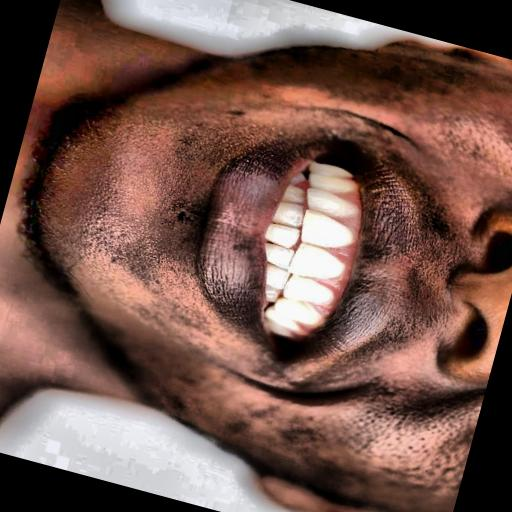Healthy: (181, 130, 400, 373)
